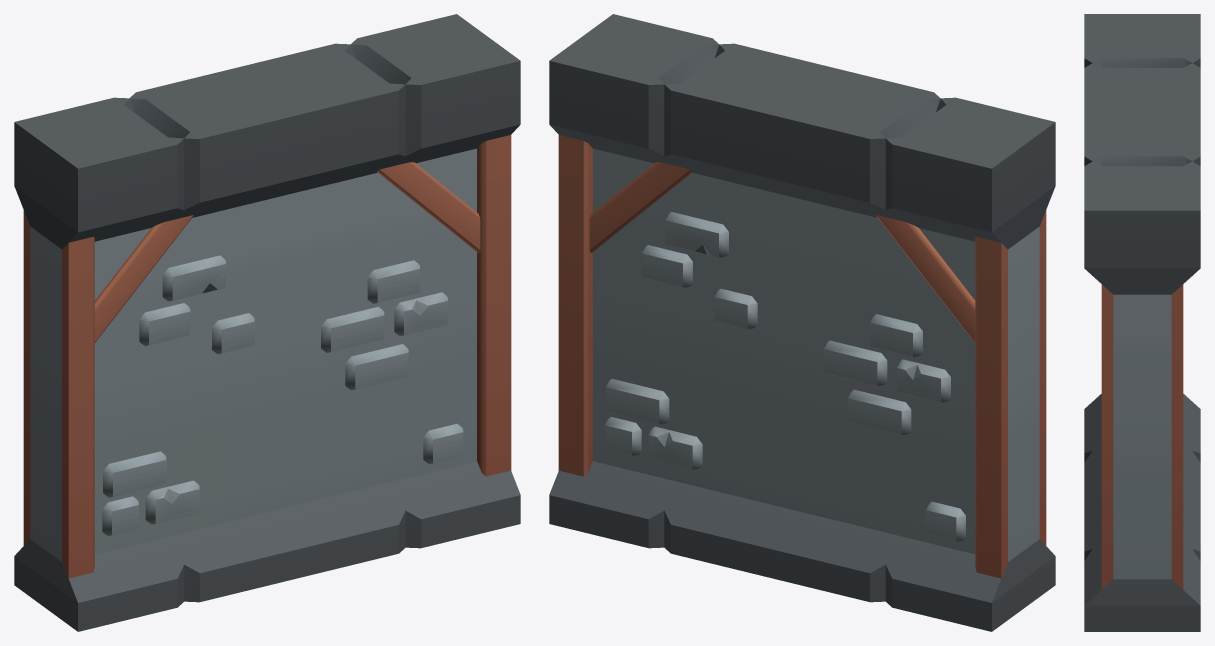
The model's file is wall.glb.
3 renders of one model, left to right at view 1: azimuth 30°, elevation 25°; view 2: azimuth 150°, elevation 25°; view 3: azimuth 270°, elevation 25°, orthographic. The views are drawn at different scales.
Visible parts, largest first — view 1: wall_scaffold; view 2: wall_scaffold; view 3: wall_scaffold.
Part boxes in pixels (<box>): wall_scaffold: <box>14,14,520,631</box>; wall_scaffold: <box>549,14,1055,631</box>; wall_scaffold: <box>1084,14,1200,631</box>.
Size of the model in its own units: 4 by 4 by 1.
1 material, 1 textured.
